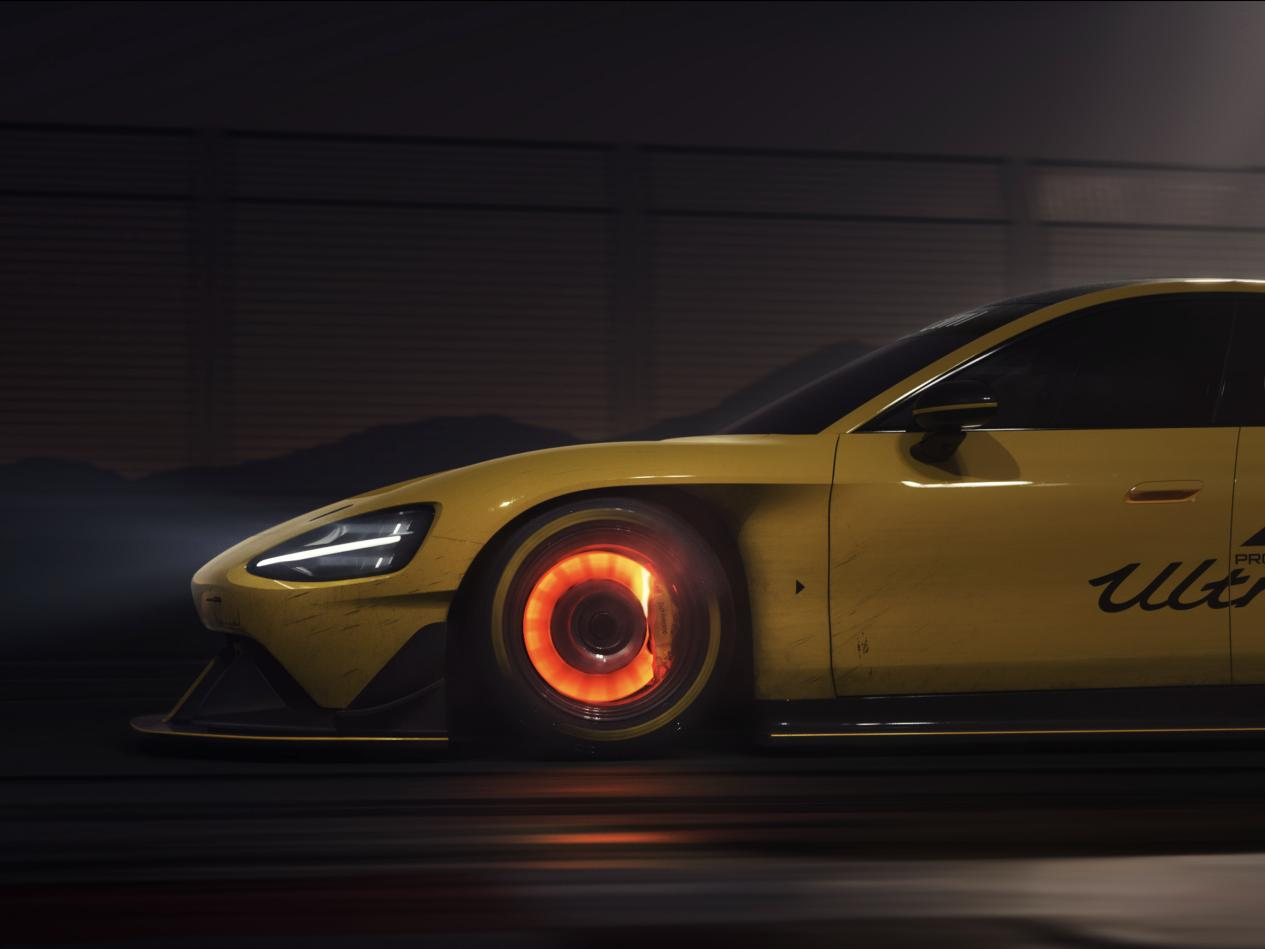su7: (109, 269, 1265, 762)
